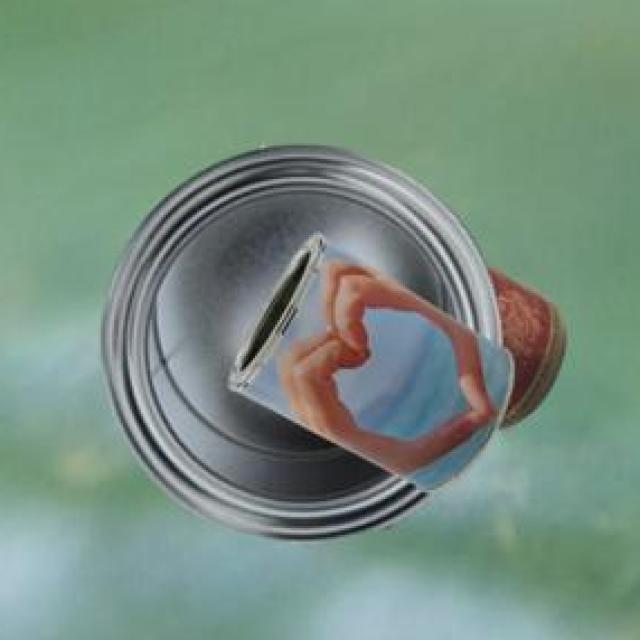logam: (100, 142, 498, 540), (225, 229, 509, 489), (483, 263, 563, 426)
